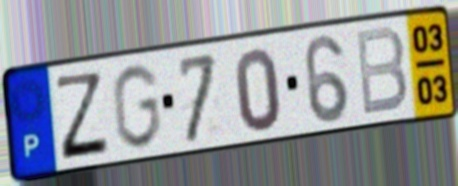0: (232, 42, 284, 135)
6: (302, 31, 352, 128)
7: (178, 49, 219, 145)
B: (353, 23, 410, 120)
G: (109, 61, 164, 152)
Z: (54, 70, 113, 163)
